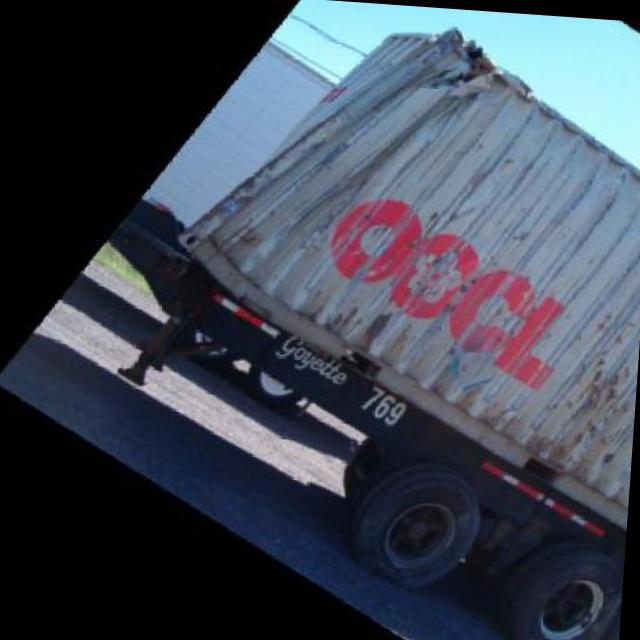Deframe_or_Dent: (332, 18, 528, 140)
Rust: (307, 294, 433, 357), (554, 370, 626, 445)
